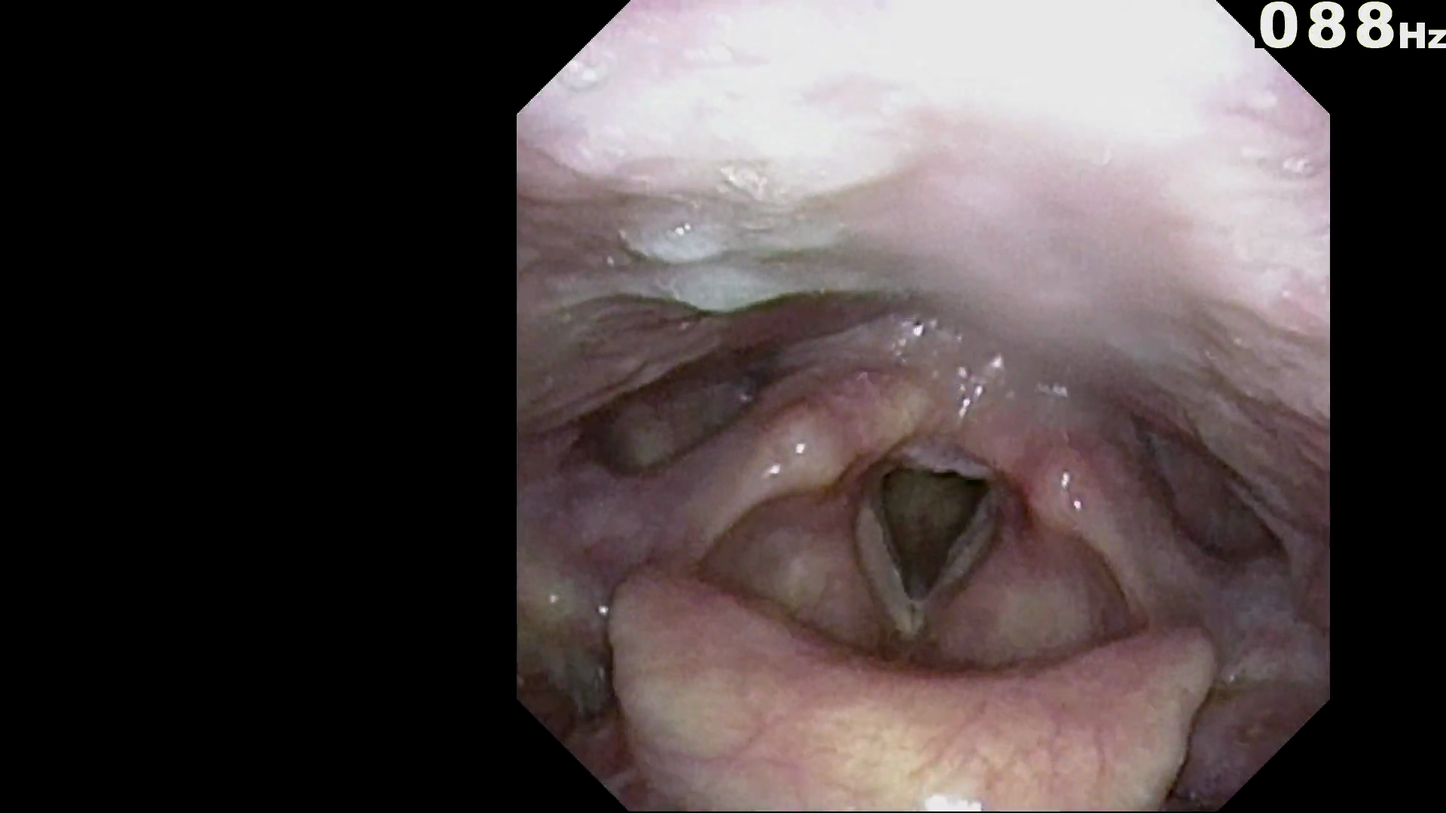epiglottis: (624, 584, 1183, 769)
trachea: (862, 442, 983, 611)
